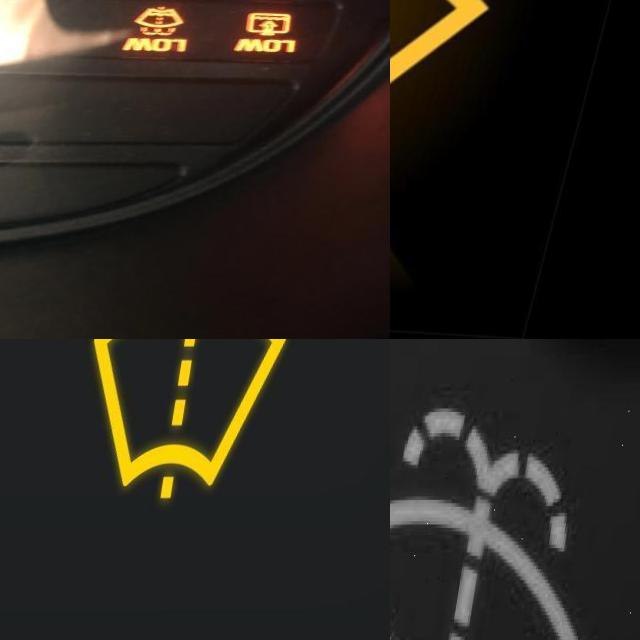Washer Fluid: (390, 406, 636, 640), (81, 339, 313, 501), (390, 0, 521, 141), (138, 4, 193, 37)
